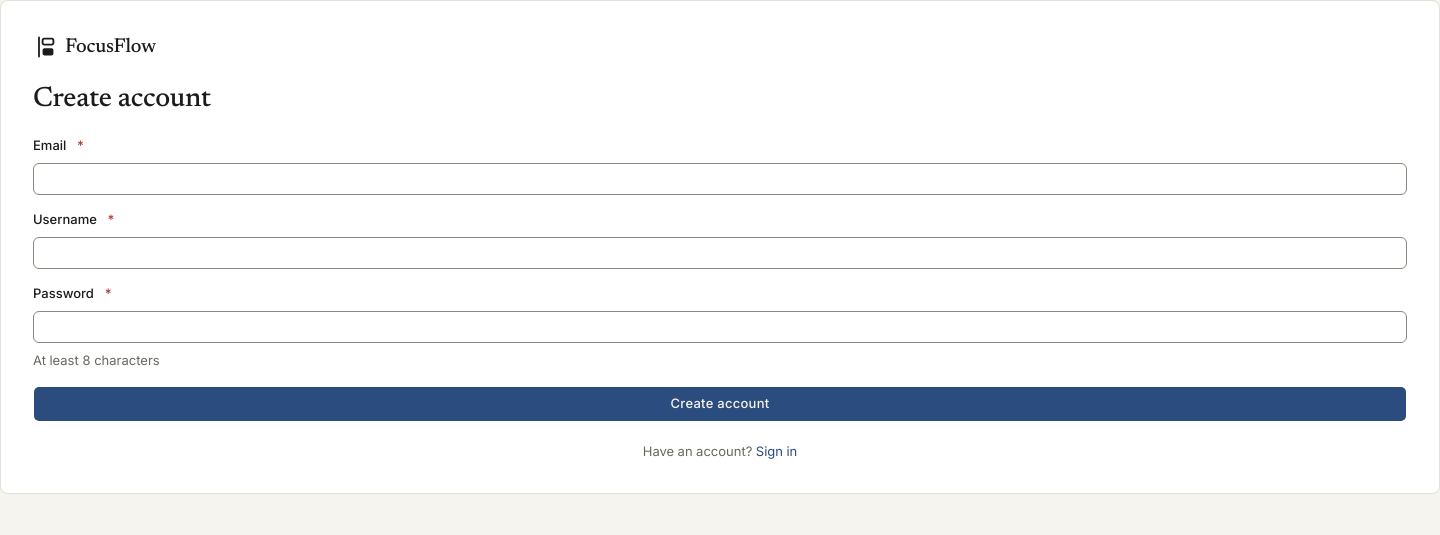
RegisterForm › rejects an invalid email address
In the field labelled "Email *": (720, 179) [33,163,1407,195], type "not-an-email"
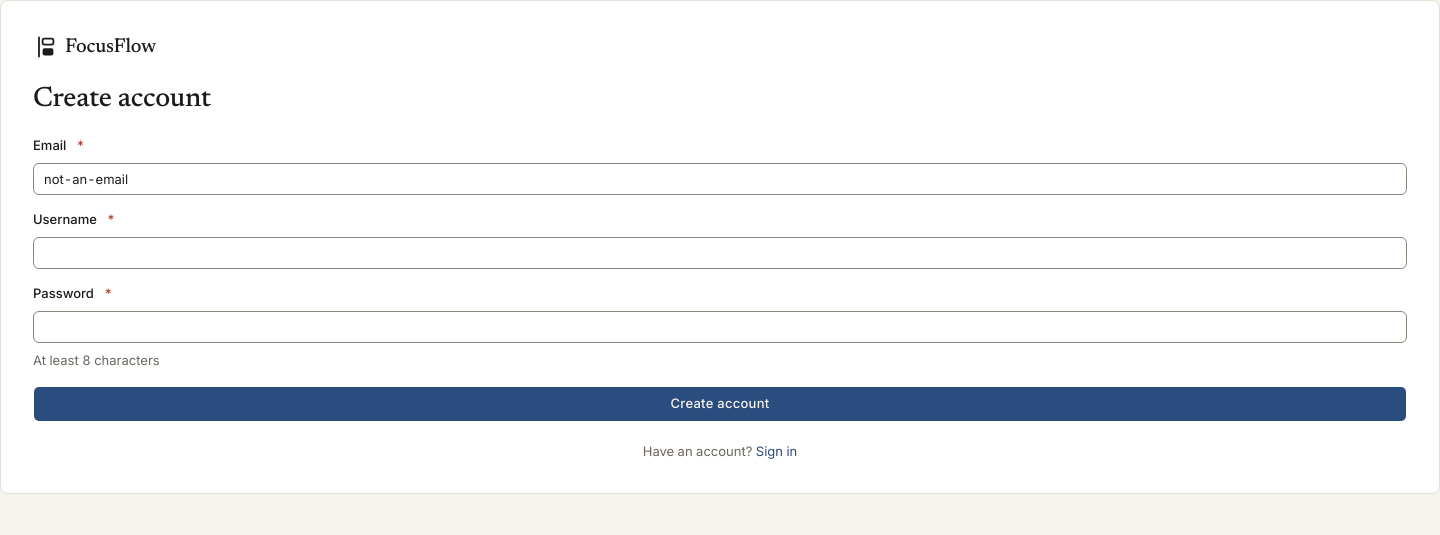
In the field labelled "Username *": (720, 253) [33,237,1407,269], type "newuser"
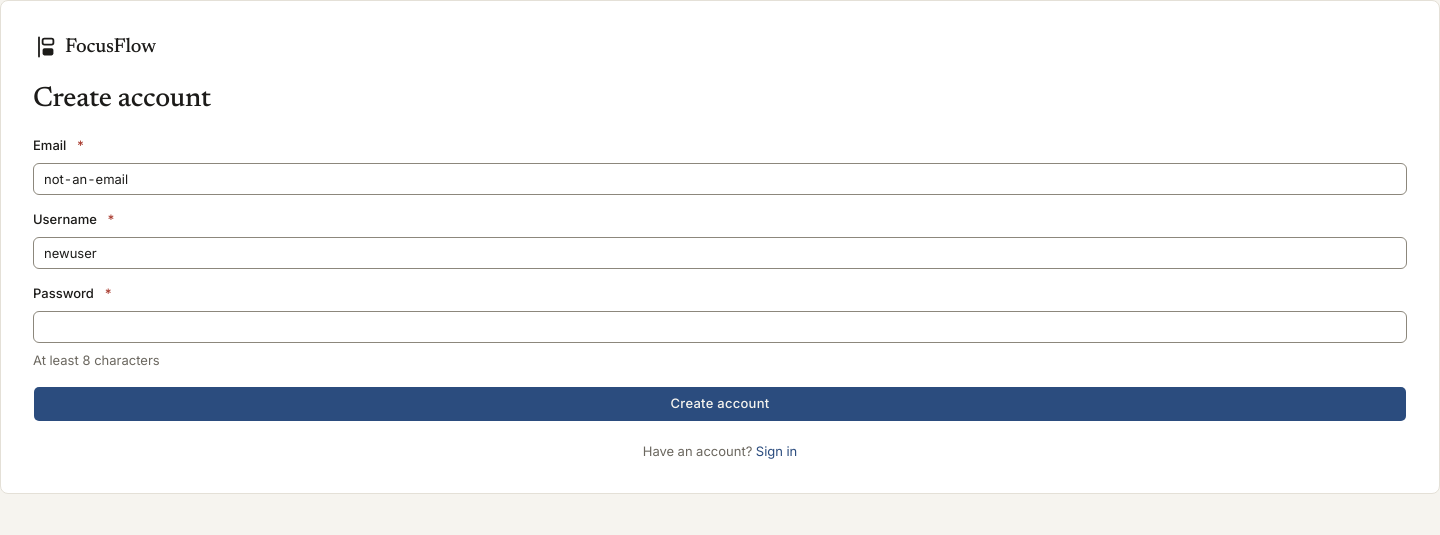
In the password field labelled "Password *": (720, 327) [33,311,1407,343], type "password123"
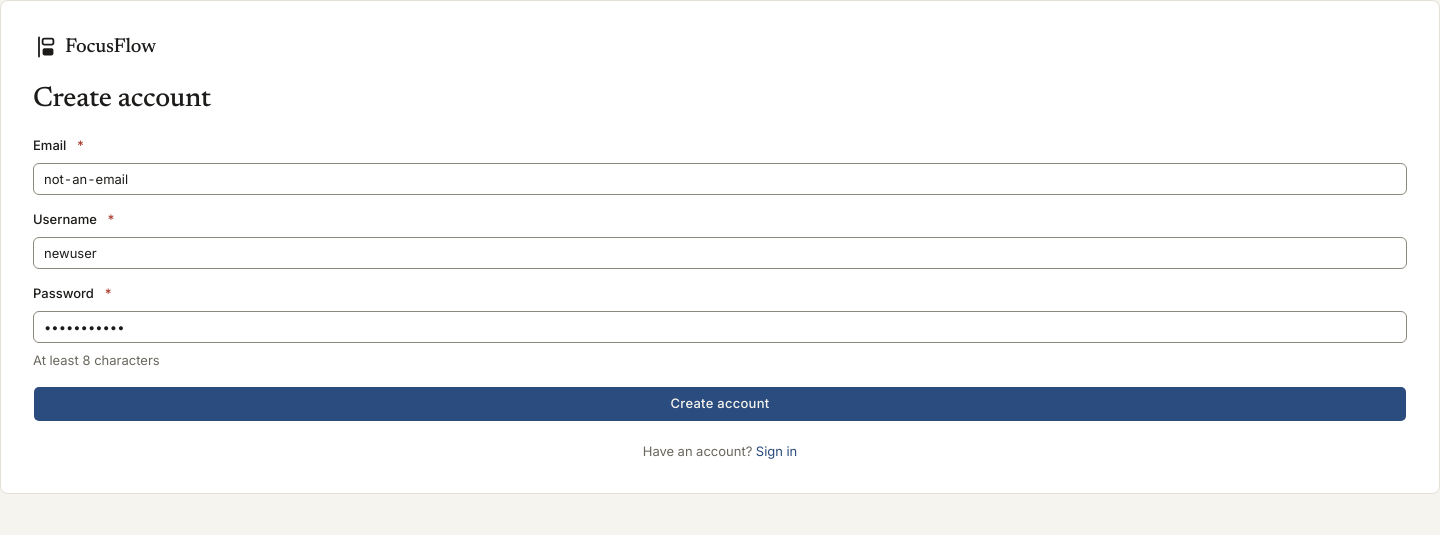
Submit the form, box [33,137,1407,422]
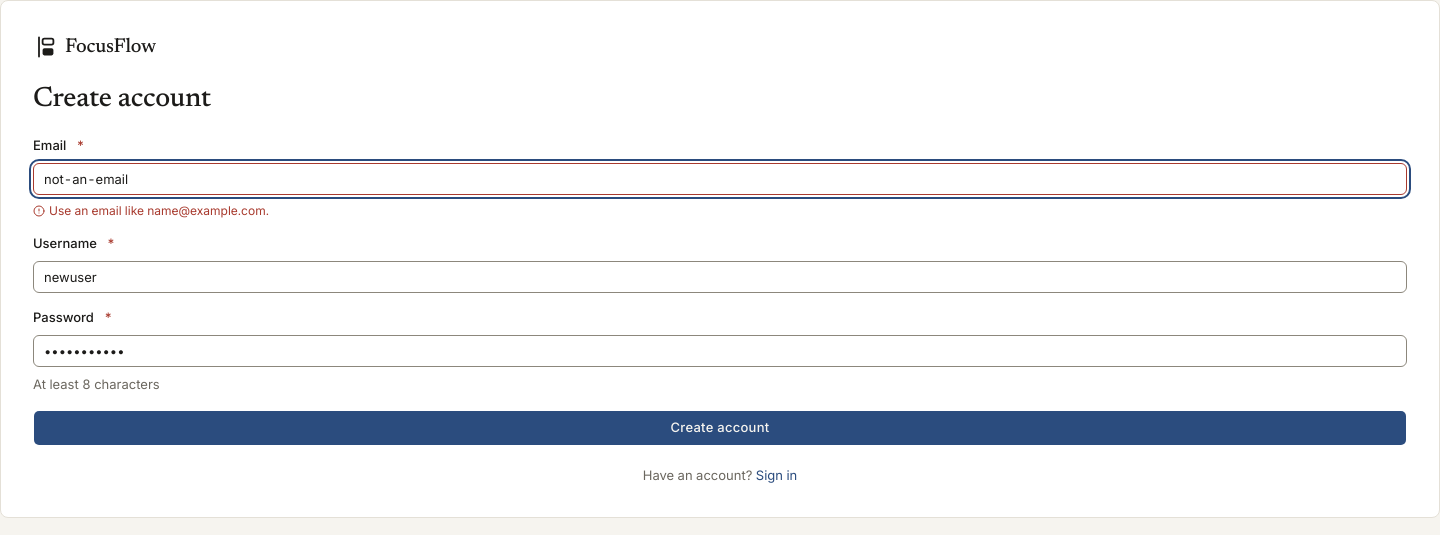
Check: the text "Use an email like name@example.com." is shown, box [49,203,269,219]
